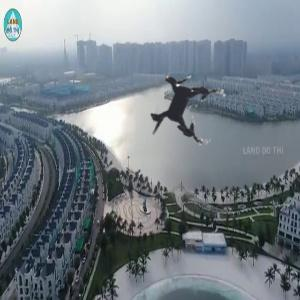drone: (120, 42, 252, 174)
